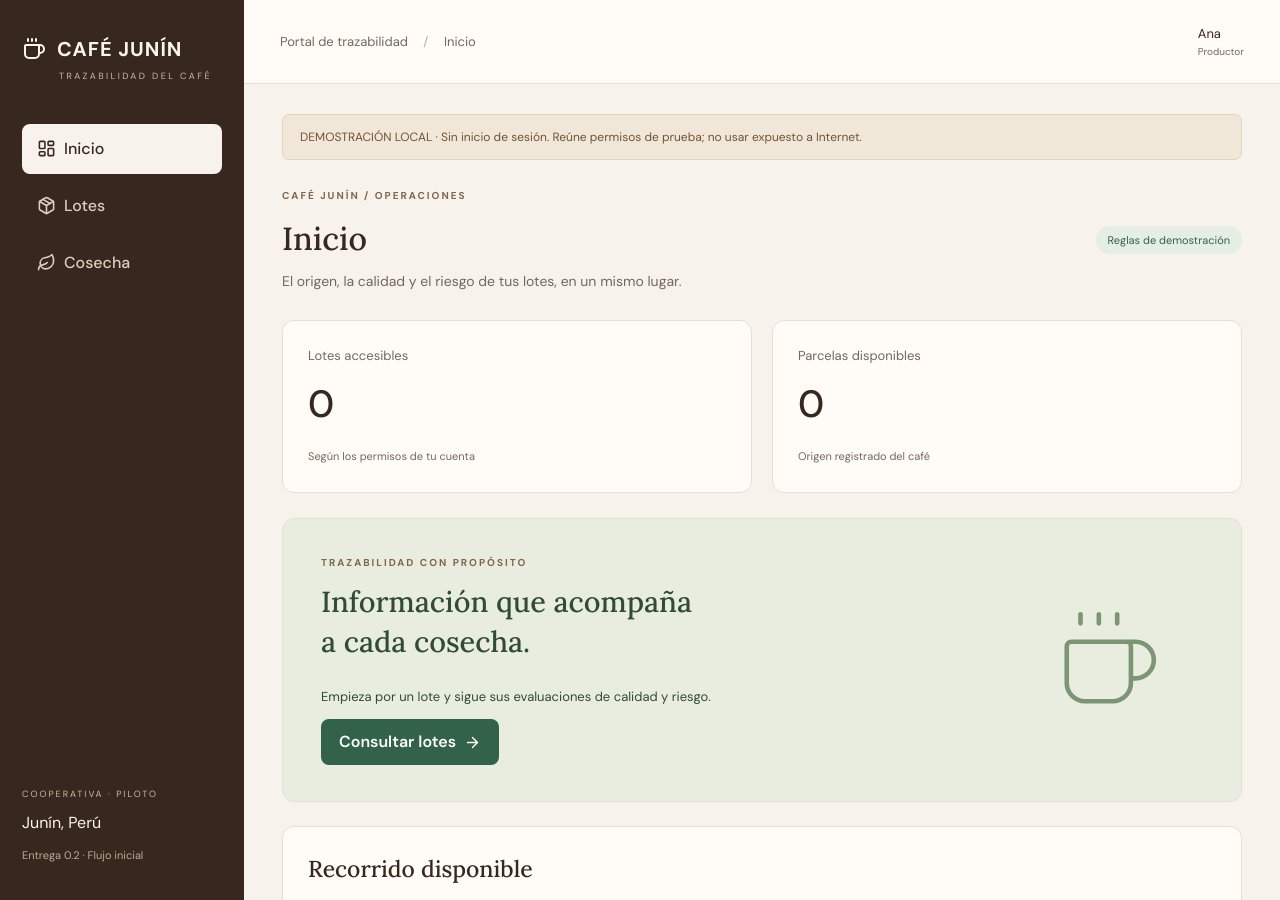
Test: el productor ve cosecha y no revisiones de supervisor
Expected: the text "Ana" is shown, [1198, 25, 1221, 42]
Click the button "Cosecha" at (122, 262), box [22, 238, 222, 288]
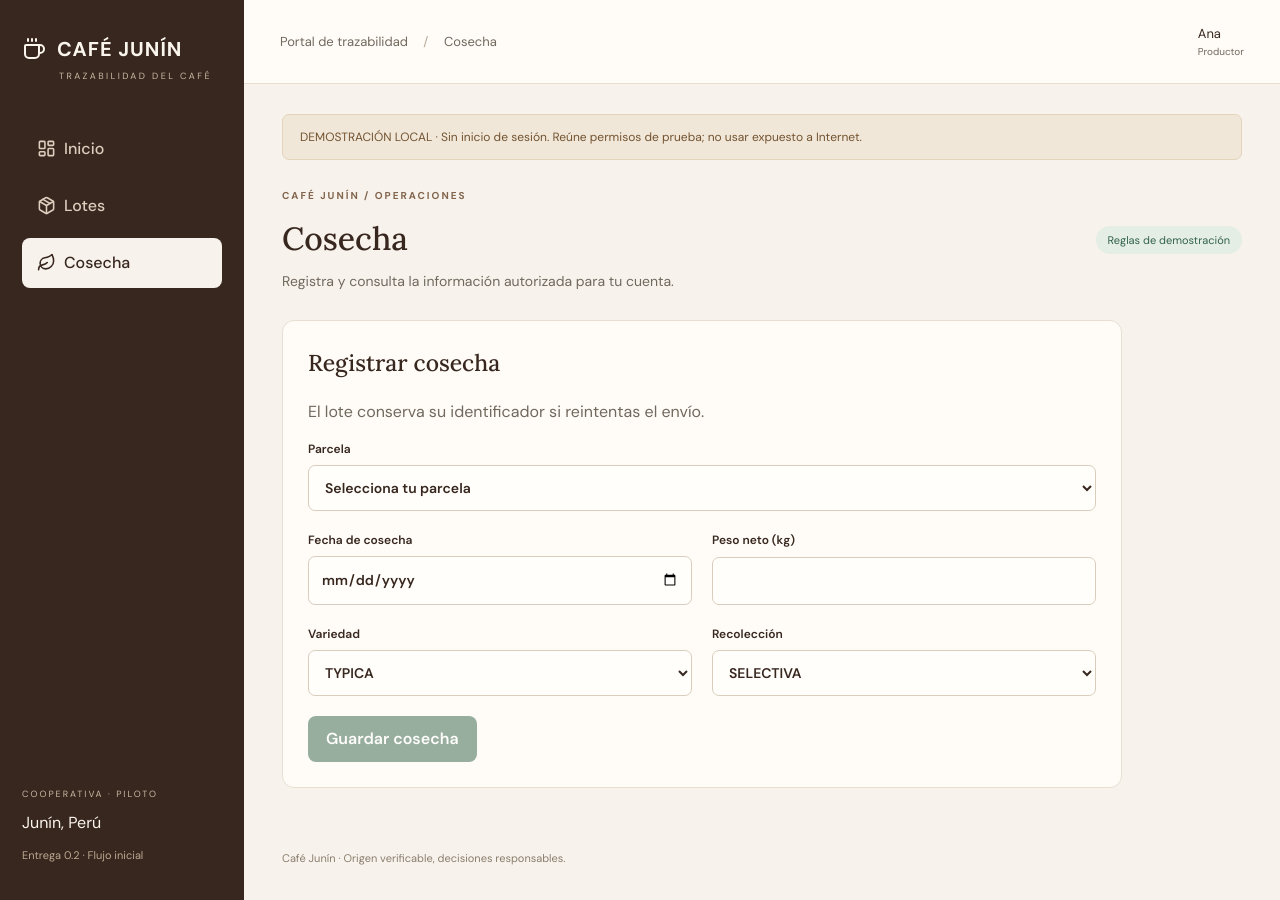
Now the heading "Registrar cosecha" is shown, box [308, 348, 500, 377]
